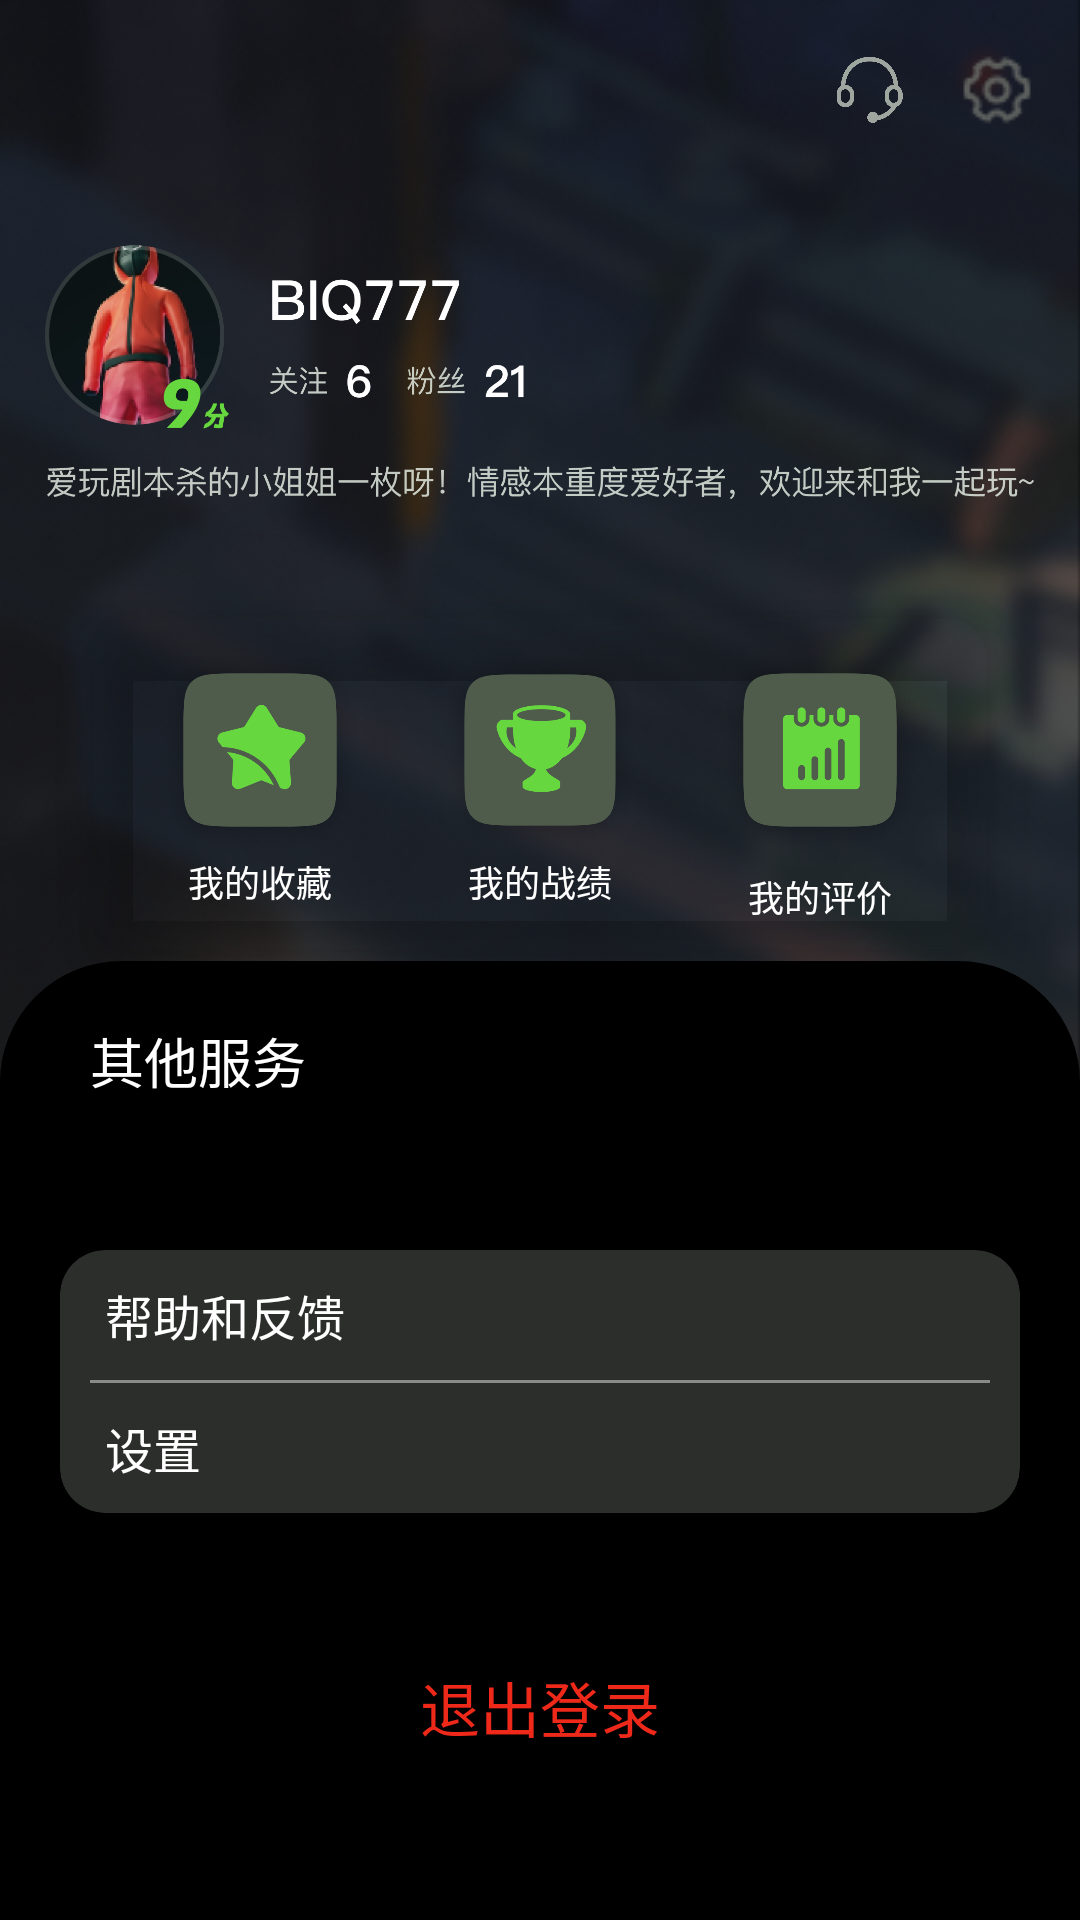

Icon bounding boxes for this 1080px×1920px phone screenshot, format Rect(x1, y1, x2, y2):
kefu: Rect(837, 57, 903, 123)
settings: Rect(963, 57, 1030, 122)
